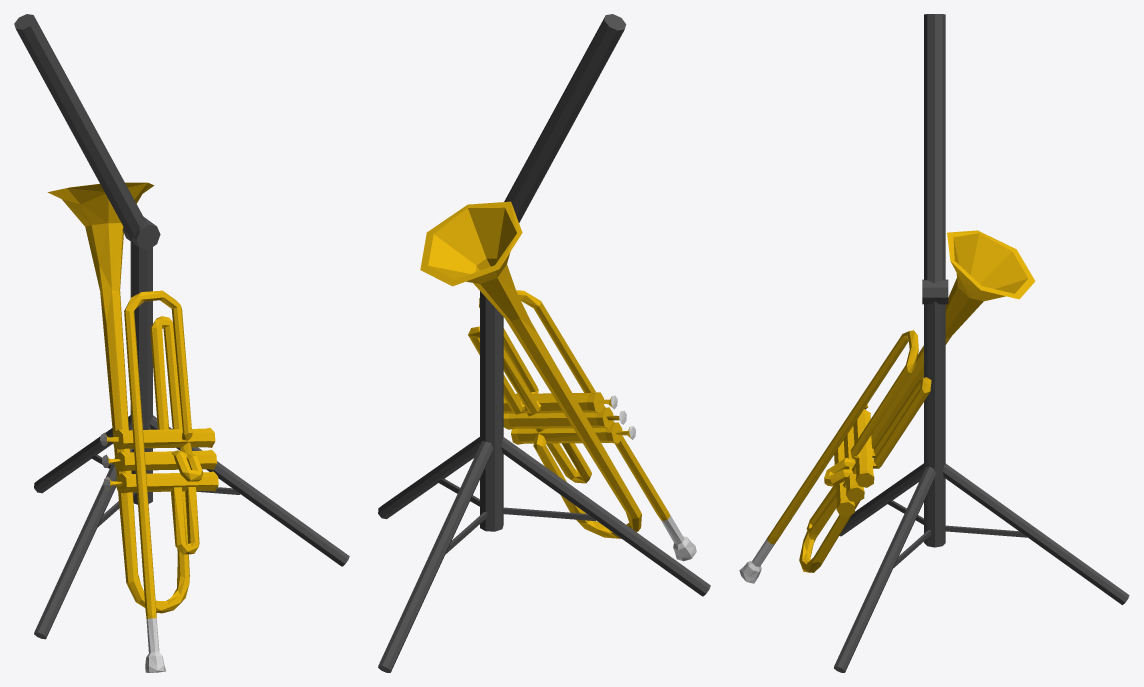
The model's file is o3_sassofono_asta.glb.
3 views of the same model, side by side, from view 1: azimuth 30°, elevation 25°; view 2: azimuth 150°, elevation 25°; view 3: azimuth 270°, elevation 25° (orthographic). The views are drawn at different scales.
Visible parts, largest first — view 1: sb_modello; view 2: sb_modello; view 3: sb_modello.
Boxes of the visible parts, left/top/right/bottom form: sb_modello: left=14, top=14, right=349, bottom=672; sb_modello: left=378, top=14, right=710, bottom=672; sb_modello: left=739, top=14, right=1129, bottom=672.
Size of the model in its own units: 0.5093 by 0.92 by 0.5846.
